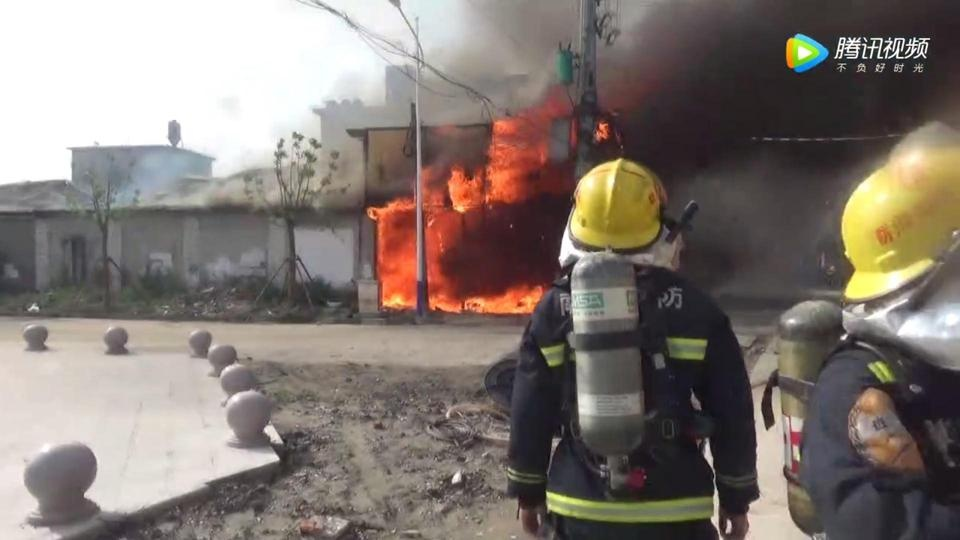fire: (363, 85, 577, 314), (590, 116, 610, 142)
